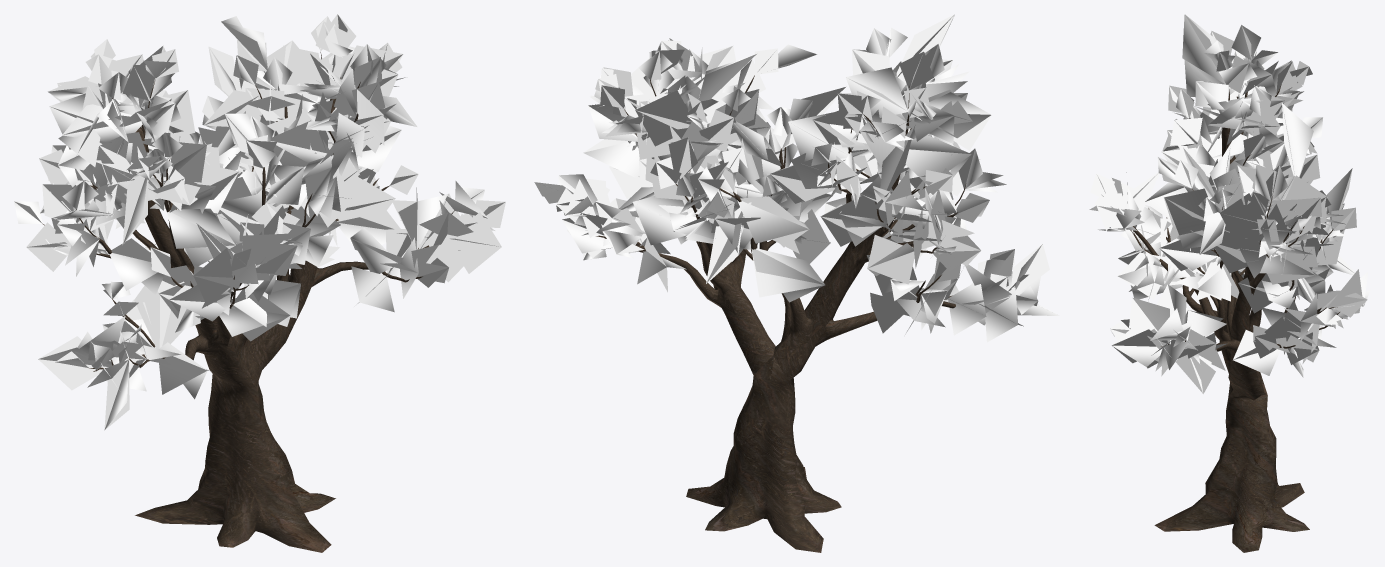
File: NaturalTree1.glb
3 renders of one model, left to right at view 1: azimuth 30°, elevation 25°; view 2: azimuth 150°, elevation 25°; view 3: azimuth 270°, elevation 25°, orthographic. The views are drawn at different scales.
Parts seen in each view (by area): view 1: bark_willow_diff_1k_0; view 2: bark_willow_diff_1k_0; view 3: bark_willow_diff_1k_0.
Part boxes in pixels (left/top/right/bottom): bark_willow_diff_1k_0: left=14, top=14, right=505, bottom=552; bark_willow_diff_1k_0: left=534, top=14, right=1059, bottom=552; bark_willow_diff_1k_0: left=1089, top=14, right=1370, bottom=552.
Bounding box in the file's own units: 4.82 × 5.38 × 3.12.
3 materials, 1 textured.
